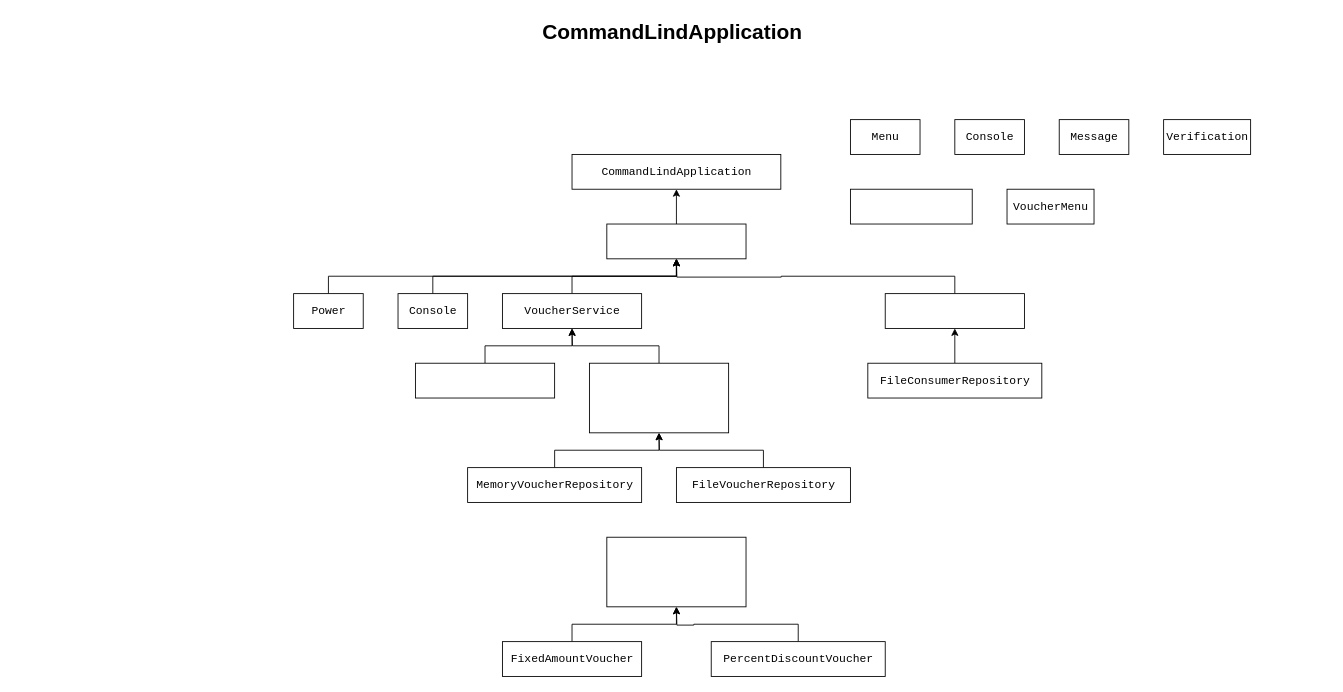
Image size: 1343x692. Some labels were removed from this diagram. Each missing label, with the centre of its shape:
"ConsumerService" belongs at pixel 954 310.
"LoggerFactory" belongs at pixel 911 206.
"VoucherApplication" belongs at pixel 676 241.
"VoucherFactory" belongs at pixel 485 380.
"«interface» Voucher" belongs at pixel 676 571.
"«interface» VoucherRepository" belongs at pixel 659 397.
